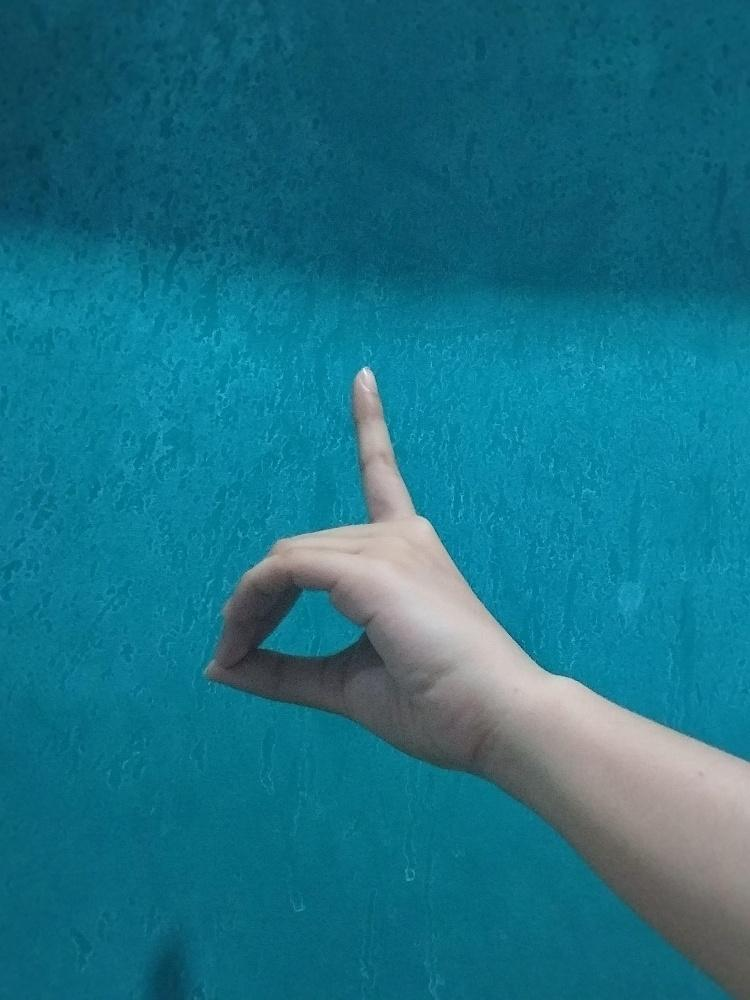d: (198, 361, 490, 774)
